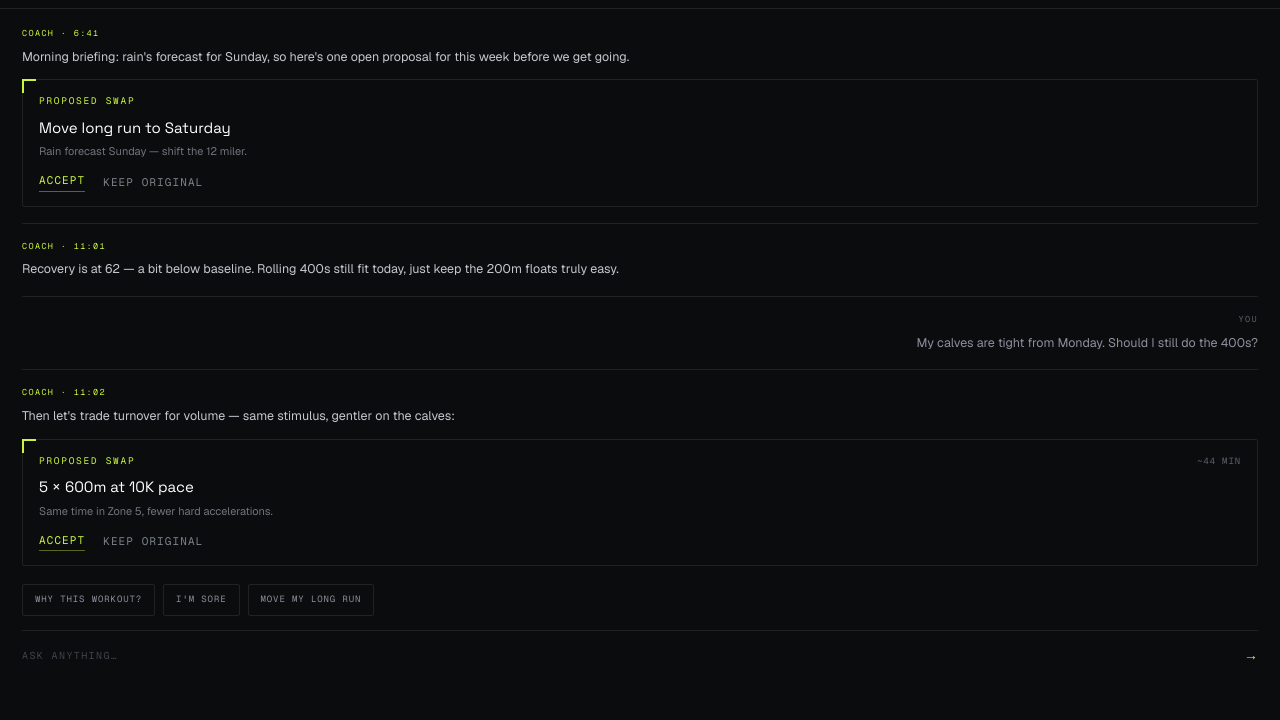
Test: typing and sending appends a user message + fixed offline reply, persisted via the repo
(page scrolled)
Type "Can I move tomorrow's run?" into the field with placeholder "ASK ANYTHING…" at x=627, y=655, box left=22, top=648, right=1232, bottom=663
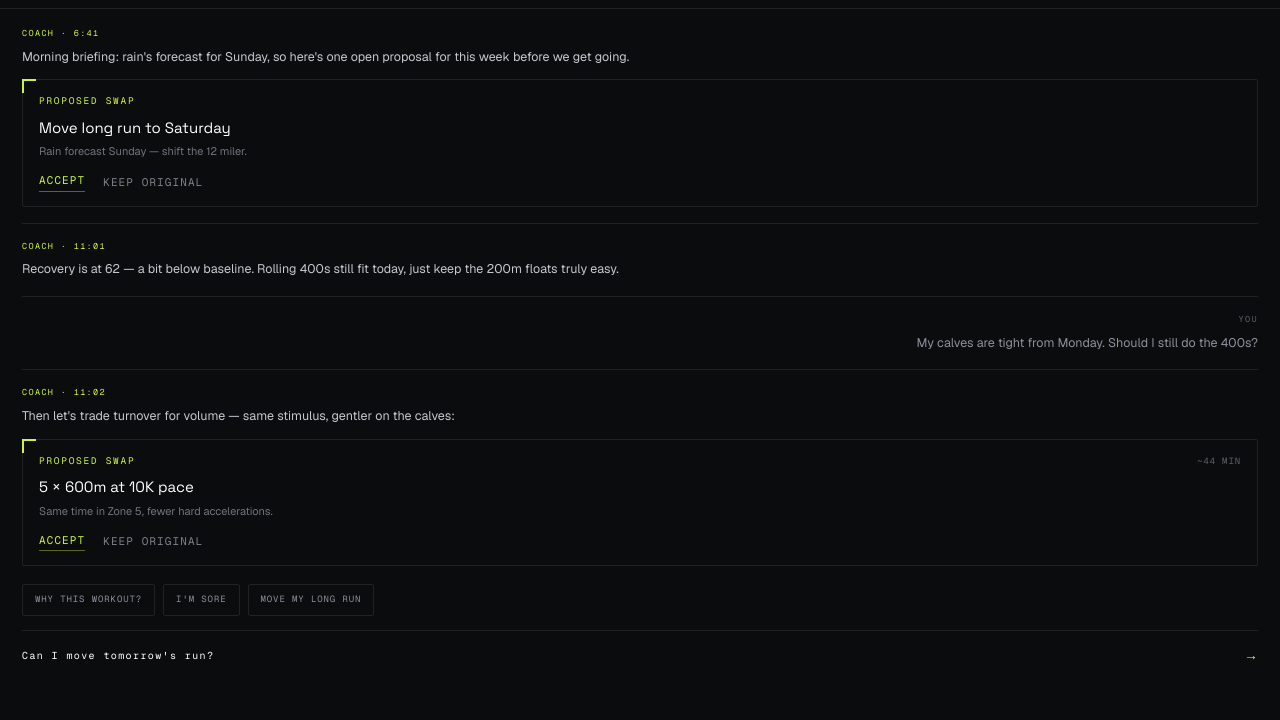
Click the button named "Send" at x=1251, y=655, box left=1244, top=645, right=1258, bottom=666
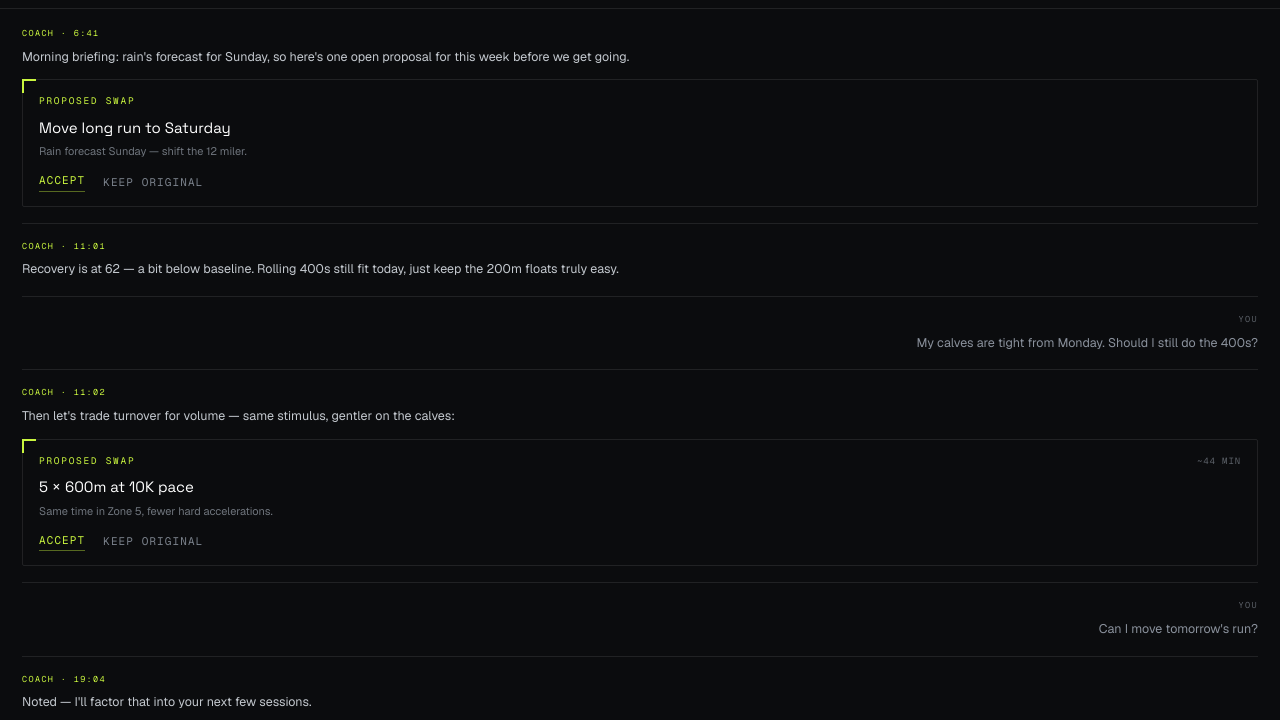
Check: the text "Can I move tomorrow's run?" is shown, box left=1099, top=620, right=1258, bottom=637
Check: the text "Noted — I'll factor that into your next few sessions." is shown, box left=22, top=694, right=312, bottom=710
